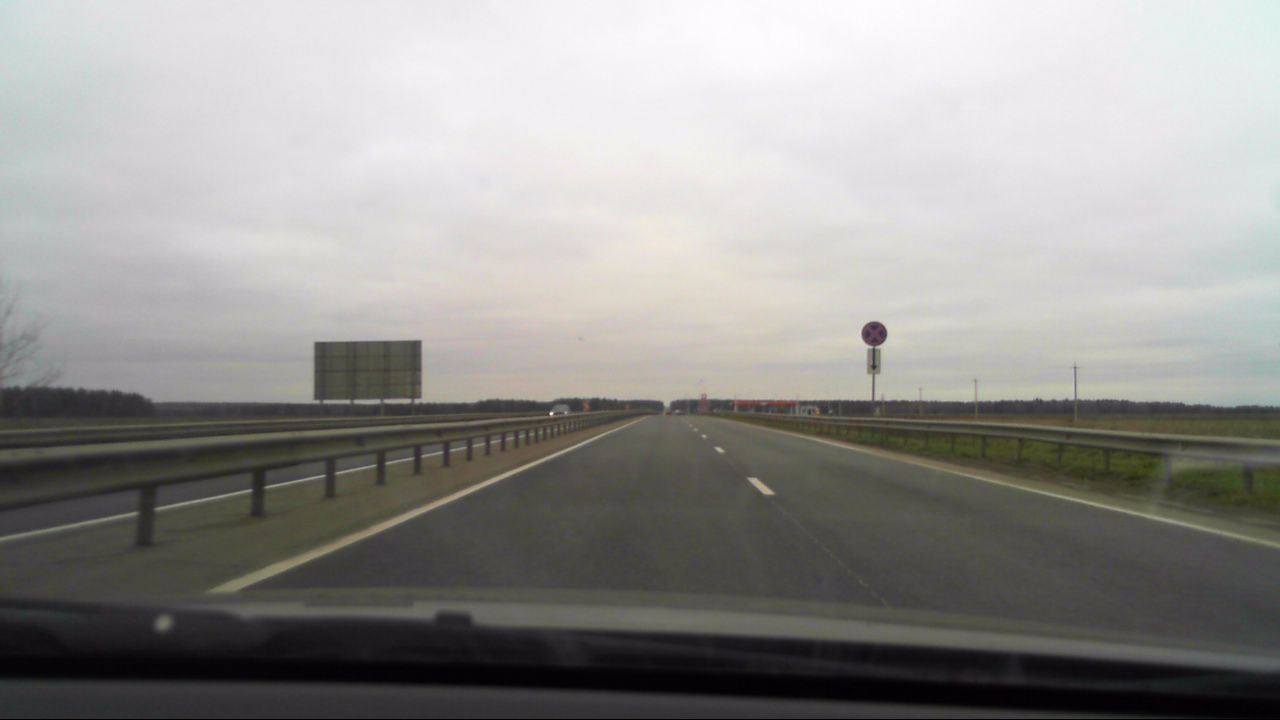No Parking: (861, 321, 887, 347)
